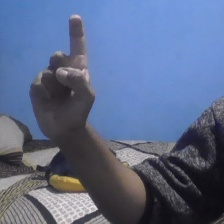X: (25, 14, 97, 138)
